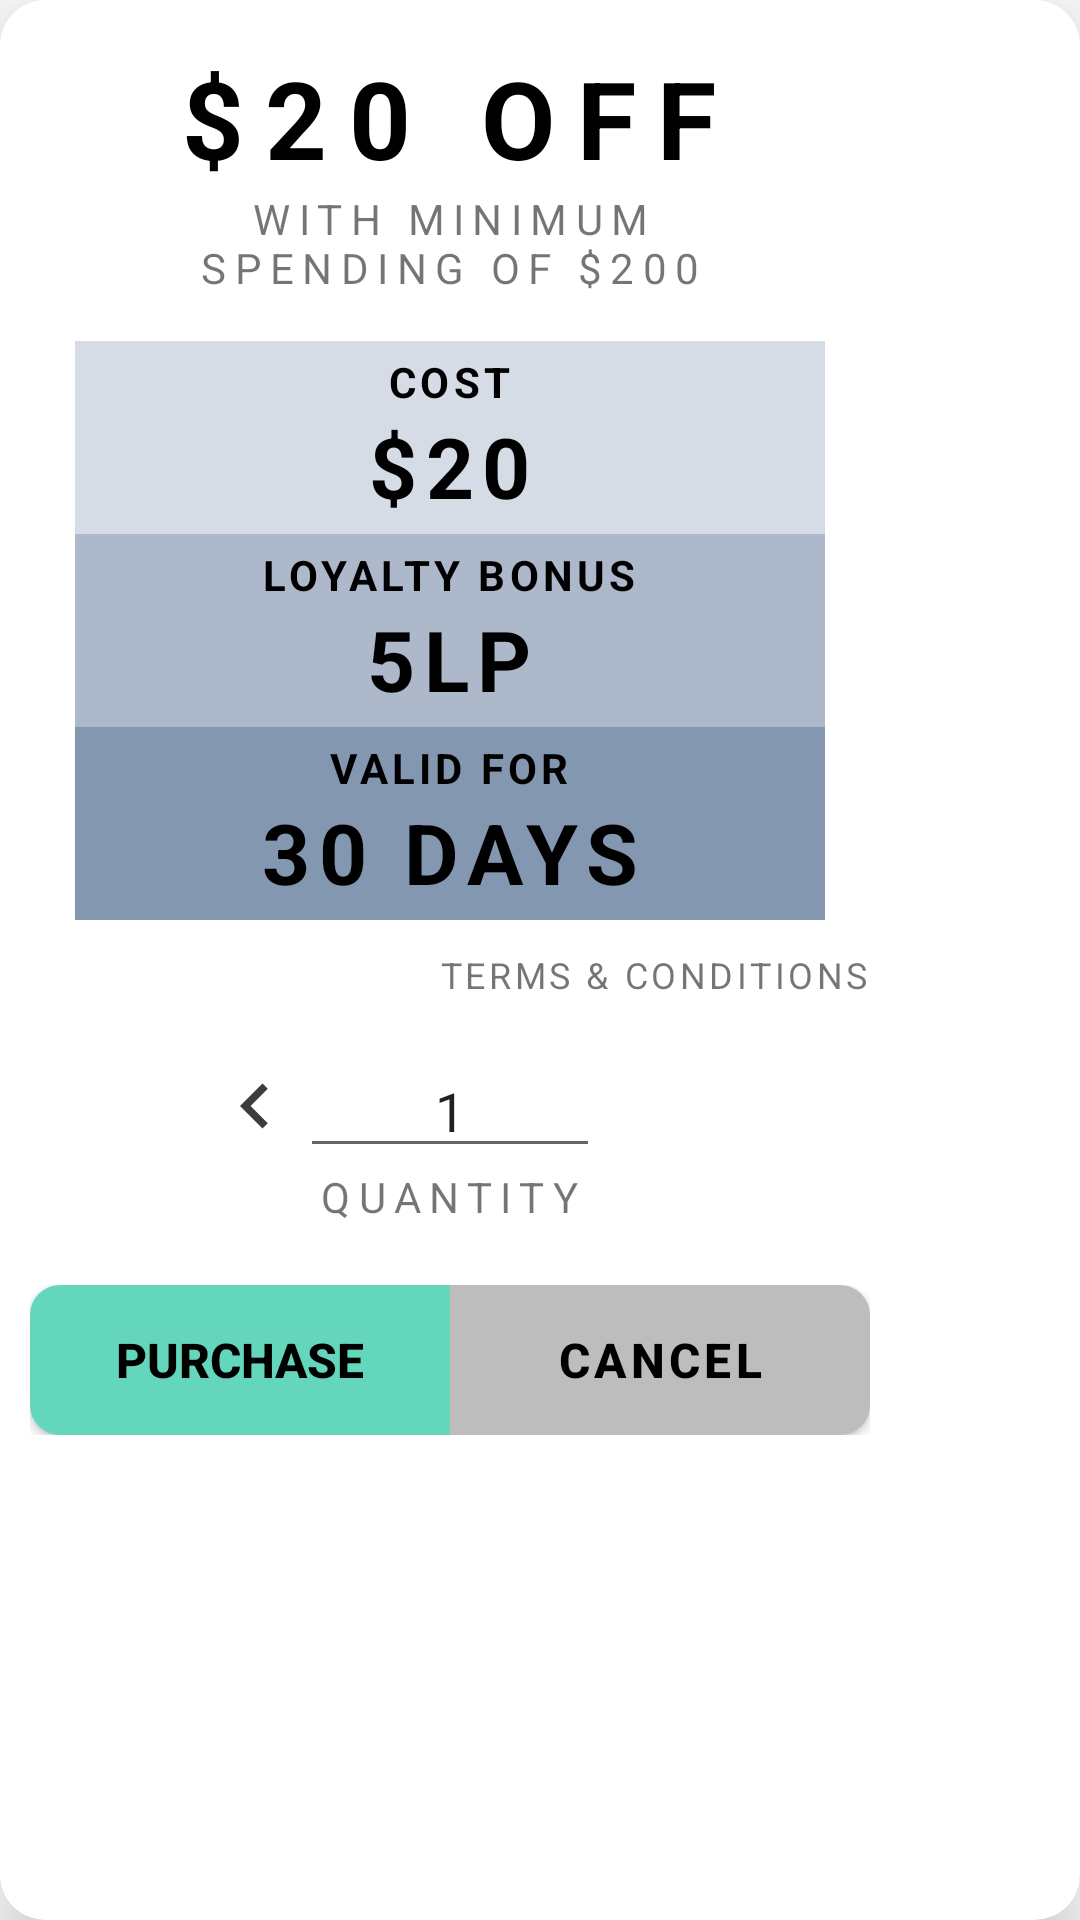

Where to tap for icons on this 1080 × 1920 app screen, as (x=x, y=y):
chevron left: (x=254, y=1106)
